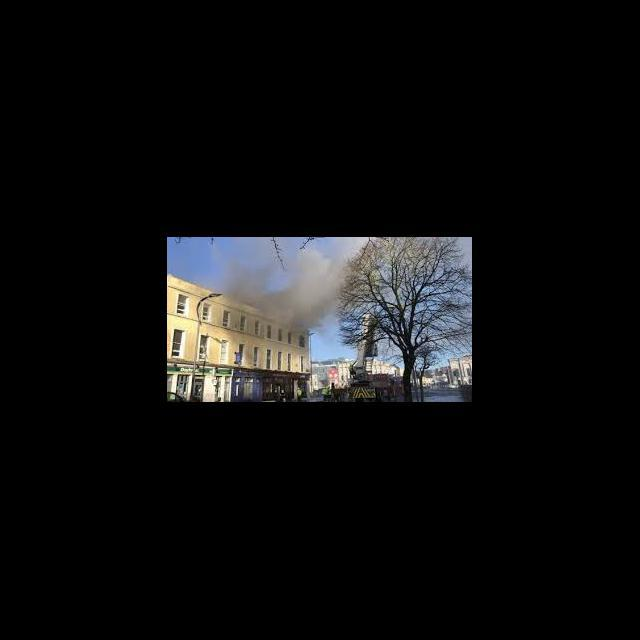Smoke: (285, 273, 338, 322), (231, 266, 270, 296)
